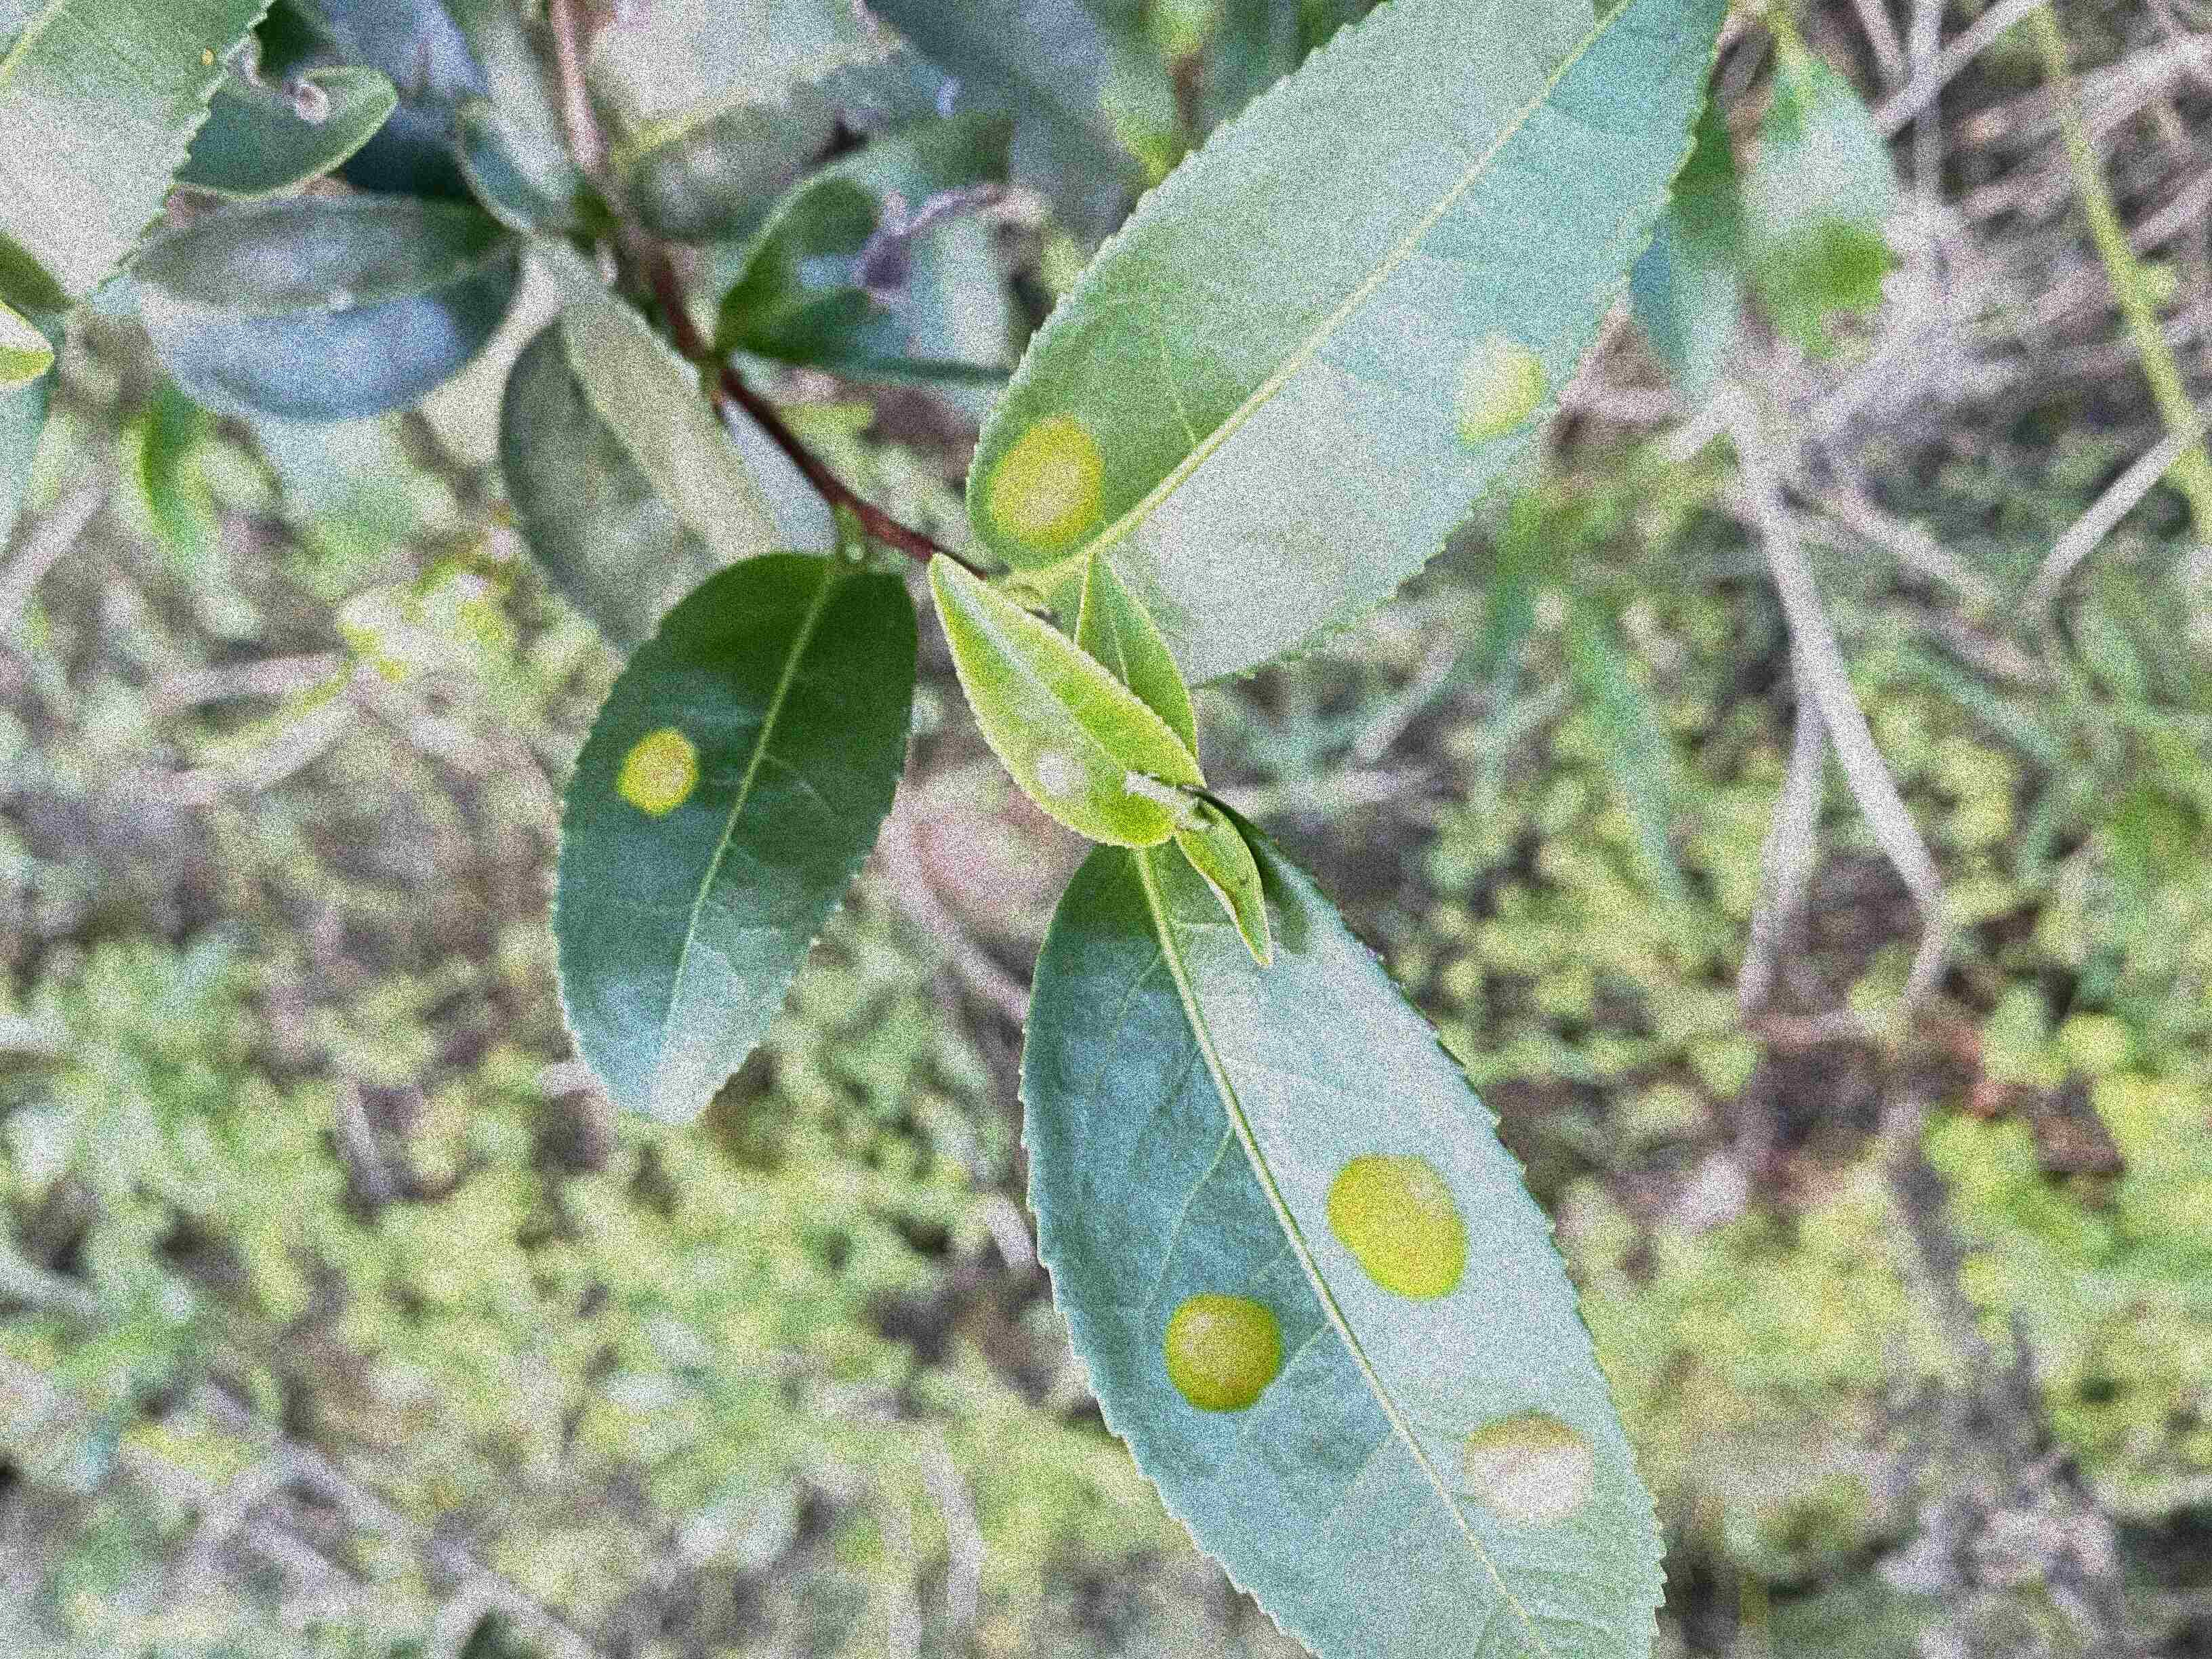chabing_high: (1017, 803, 1670, 1657), (963, 7, 1737, 683)
chabing_low: (543, 554, 913, 1127), (925, 552, 1211, 850)
